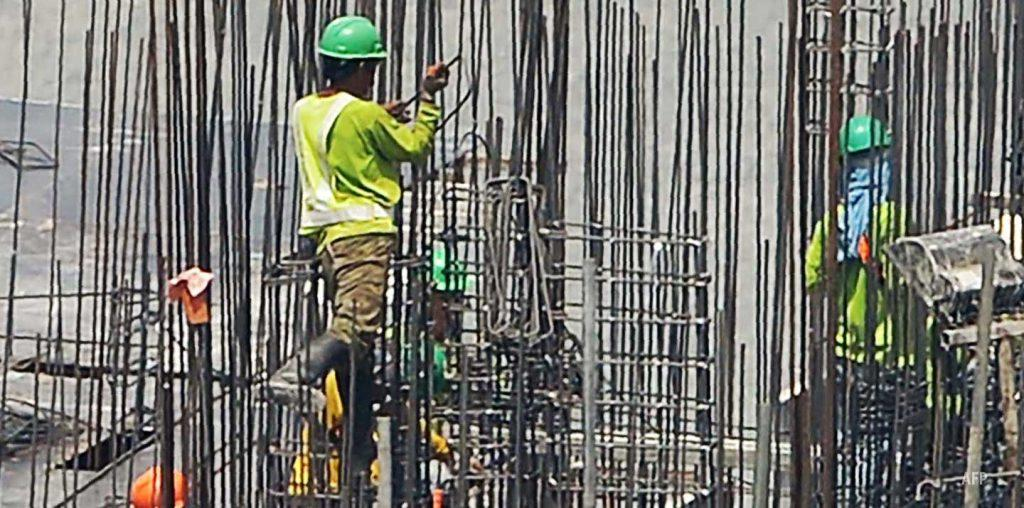helmet: (315, 15, 390, 62), (838, 113, 894, 160)
